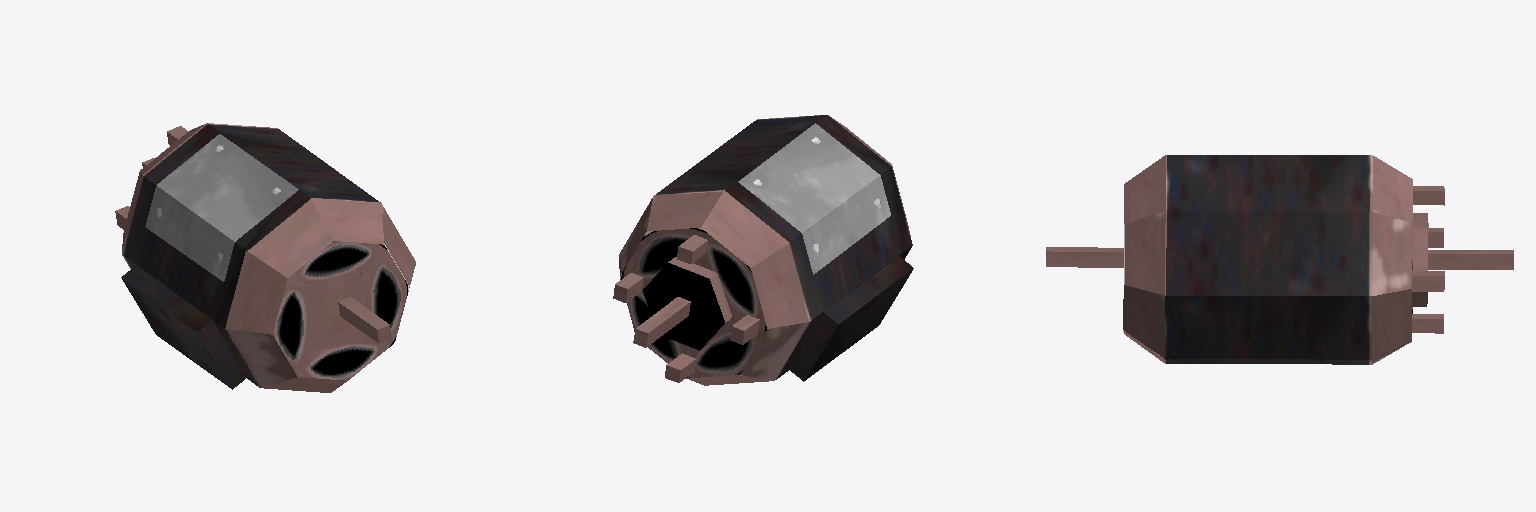
3 renders of one model, left to right at view 1: azimuth 30°, elevation 25°; view 2: azimuth 150°, elevation 25°; view 3: azimuth 270°, elevation 25°, orthographic.
Parts seen in each view (by area): view 1: Box06; view 2: Box06; view 3: Box06.
Part boxes in pixels (bbox=[...]): Box06: bbox=[115, 123, 415, 392]; Box06: bbox=[613, 115, 913, 385]; Box06: bbox=[1046, 155, 1513, 364].
Bounding box in the file's own units: 48.66 × 45.29 × 95.97.
Materials: 1 (1 with a texture image).